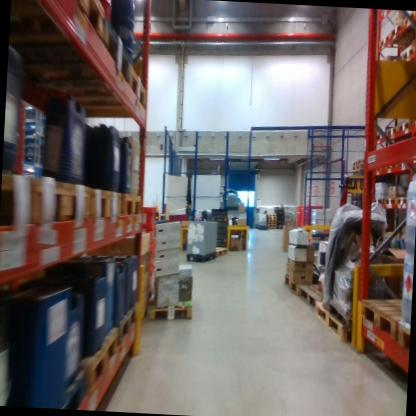pallet: (10, 9, 133, 104), (35, 52, 146, 116), (11, 0, 106, 46), (37, 163, 92, 232), (352, 281, 402, 349), (0, 165, 48, 233), (78, 324, 123, 388), (308, 301, 359, 343), (46, 362, 92, 407), (86, 182, 121, 229), (147, 293, 197, 324), (377, 27, 416, 59), (297, 277, 329, 313), (122, 190, 147, 231), (391, 310, 409, 359), (117, 299, 136, 345), (183, 246, 218, 267), (387, 14, 410, 42), (282, 272, 301, 299), (387, 52, 406, 71), (399, 44, 416, 65), (397, 118, 412, 139), (372, 159, 391, 175), (372, 128, 387, 145), (386, 124, 401, 139), (397, 156, 410, 171), (383, 195, 399, 207), (385, 156, 397, 171), (404, 12, 416, 27), (352, 167, 366, 179), (158, 210, 170, 223), (396, 194, 408, 207), (350, 156, 366, 165), (214, 246, 226, 257), (373, 196, 384, 207), (353, 163, 366, 170), (413, 34, 416, 55), (265, 214, 276, 219), (266, 226, 277, 231), (413, 115, 416, 132), (265, 211, 277, 215), (267, 218, 276, 222), (266, 222, 276, 224), (266, 224, 276, 226)
